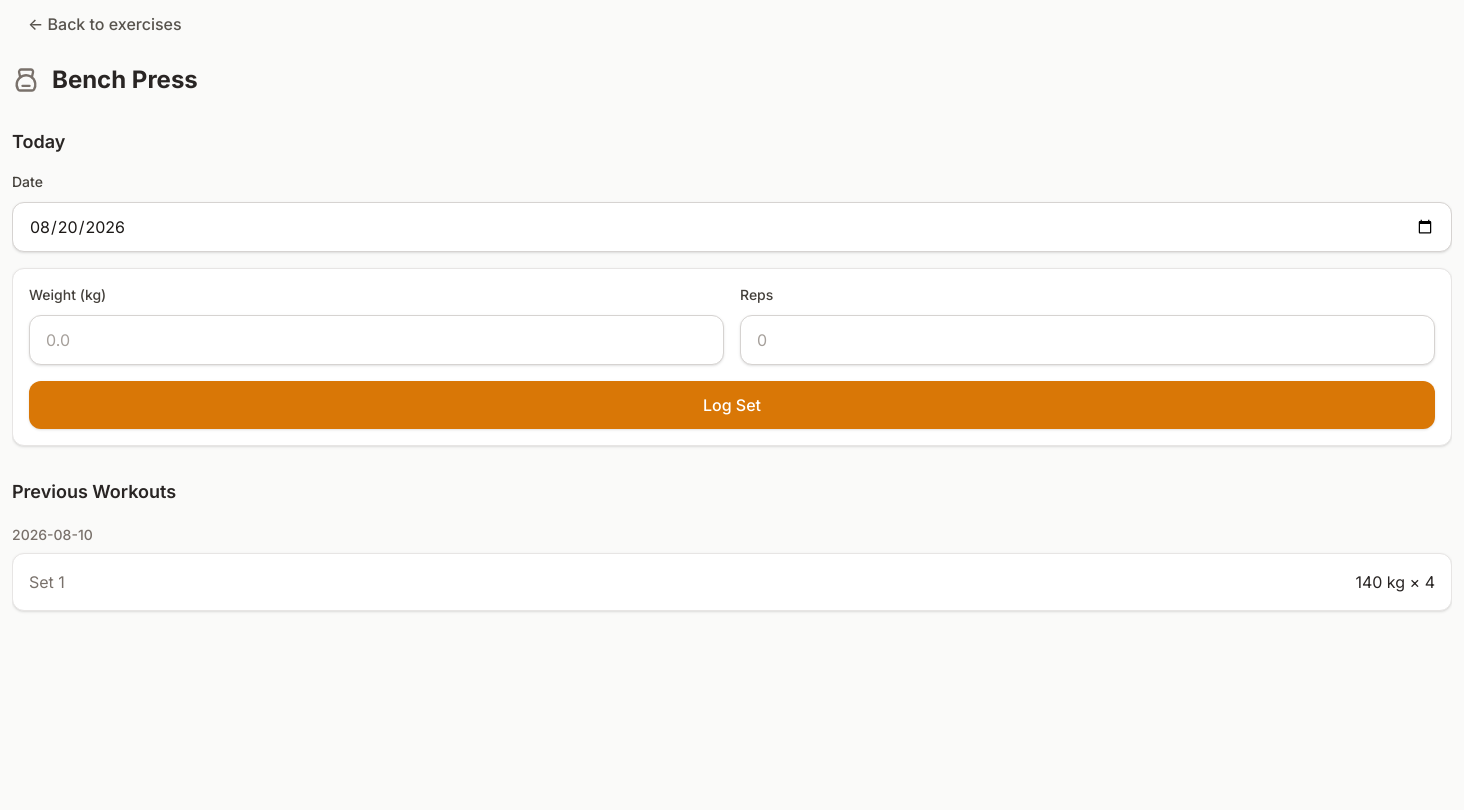
Test: Expand the latest history session by default (even when old) › stays user-collapsible: toggling the latest old session hides its set, toggling again reveals it
This screenshot has width=1464, height=810.
Expected: the text "140 kg × 4" is shown, [1355,570,1435,594]
Click the button "2026-08-10": click(52, 535) [12,525,93,545]
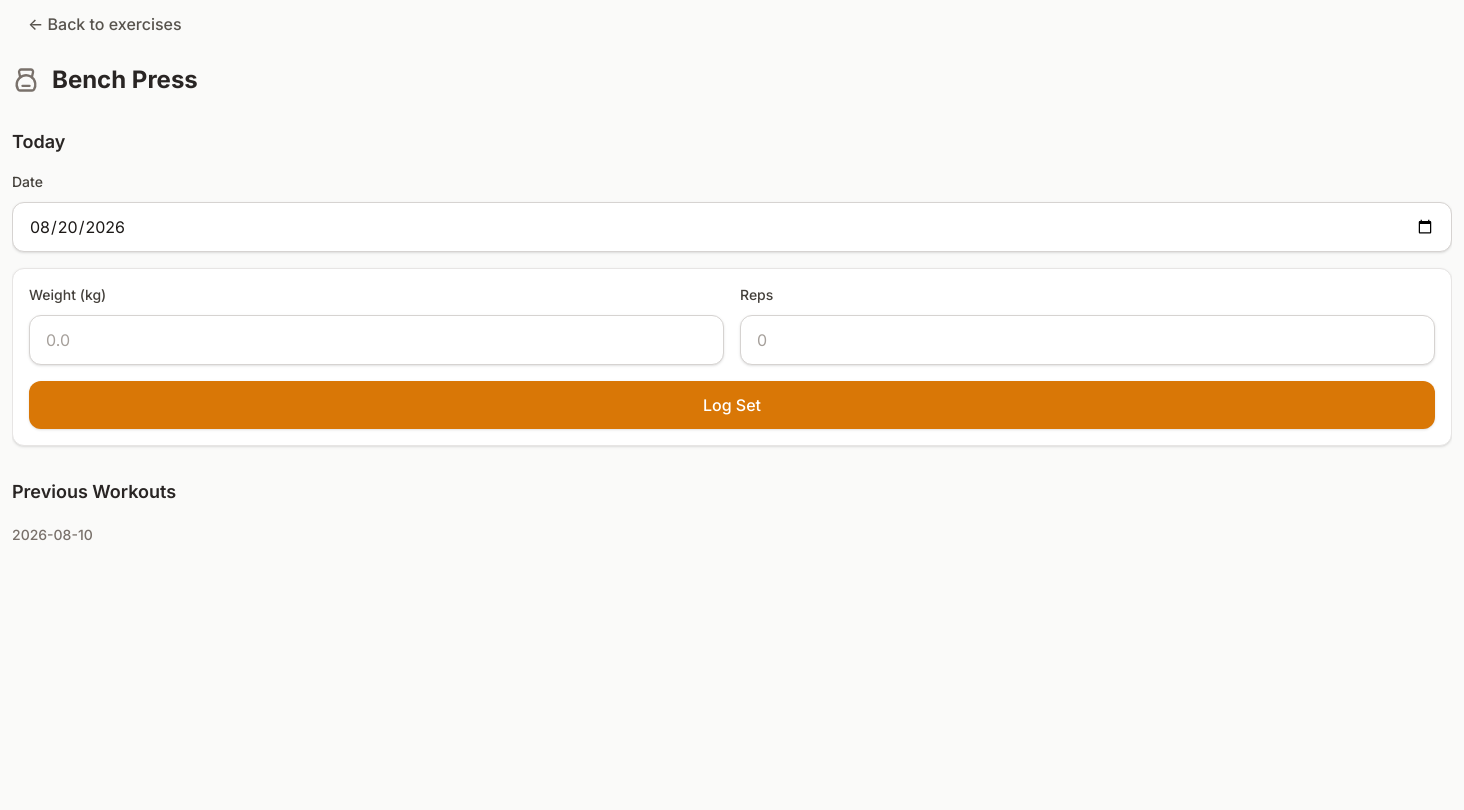
Expected: the text "140 kg × 4" is gone
Click the button "2026-08-10": click(52, 535) [12,525,93,545]
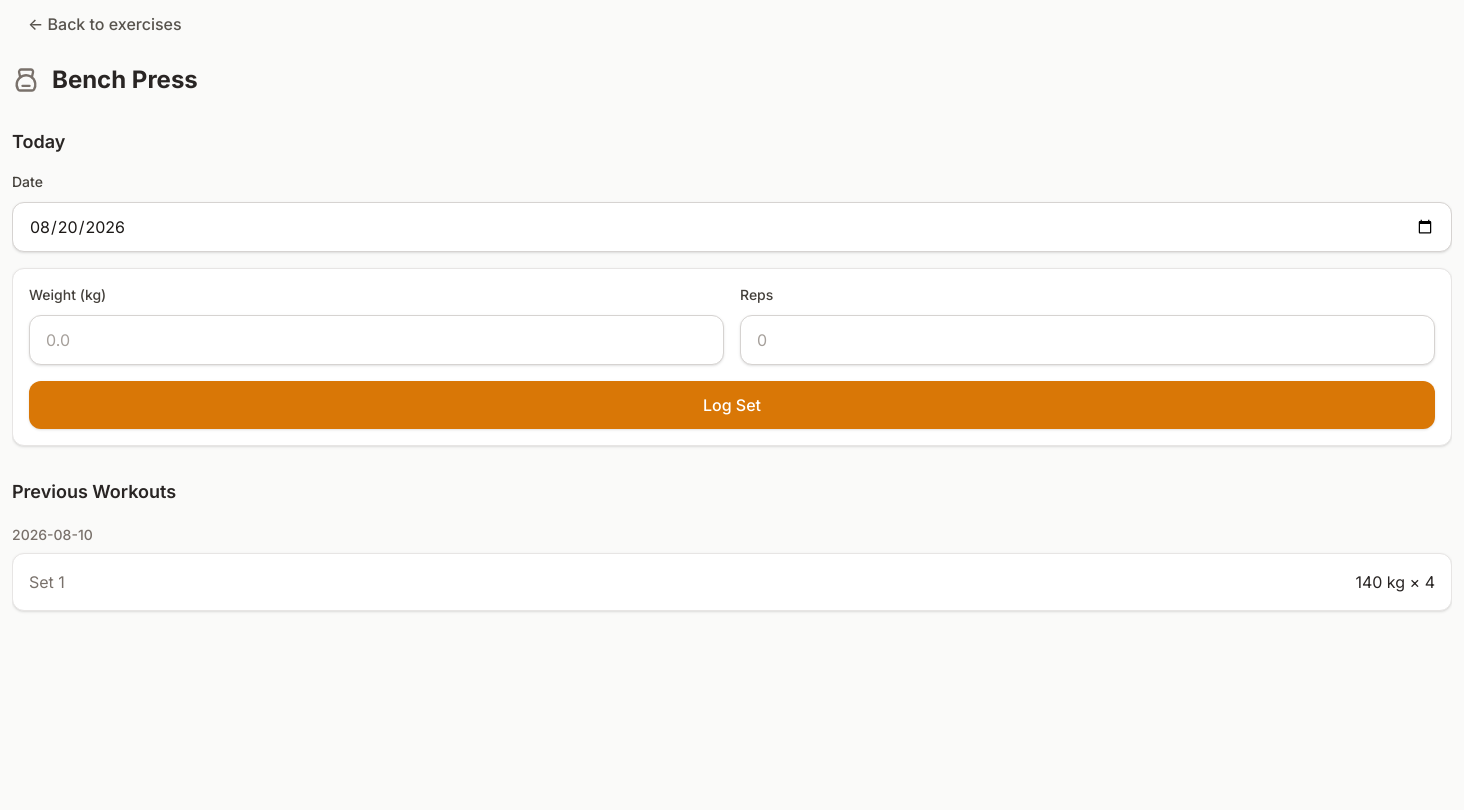
Expected: the text "140 kg × 4" is shown, [1355,570,1435,594]
